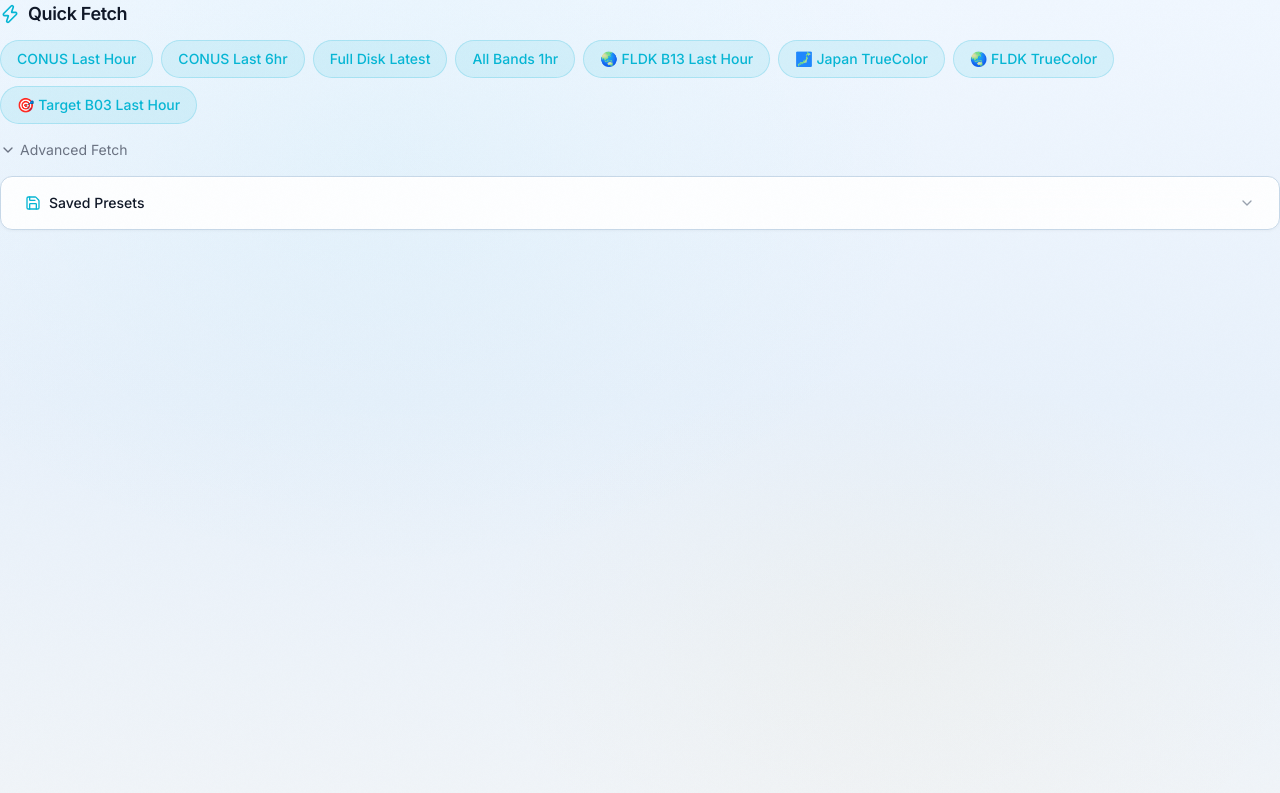
FetchFlowComplete › step 1: sector selection shows available sectors
Step 1. Click the button with test id "advanced-fetch-toggle" → coordinates (64, 150), box x1=0 y1=140 x2=128 y2=160
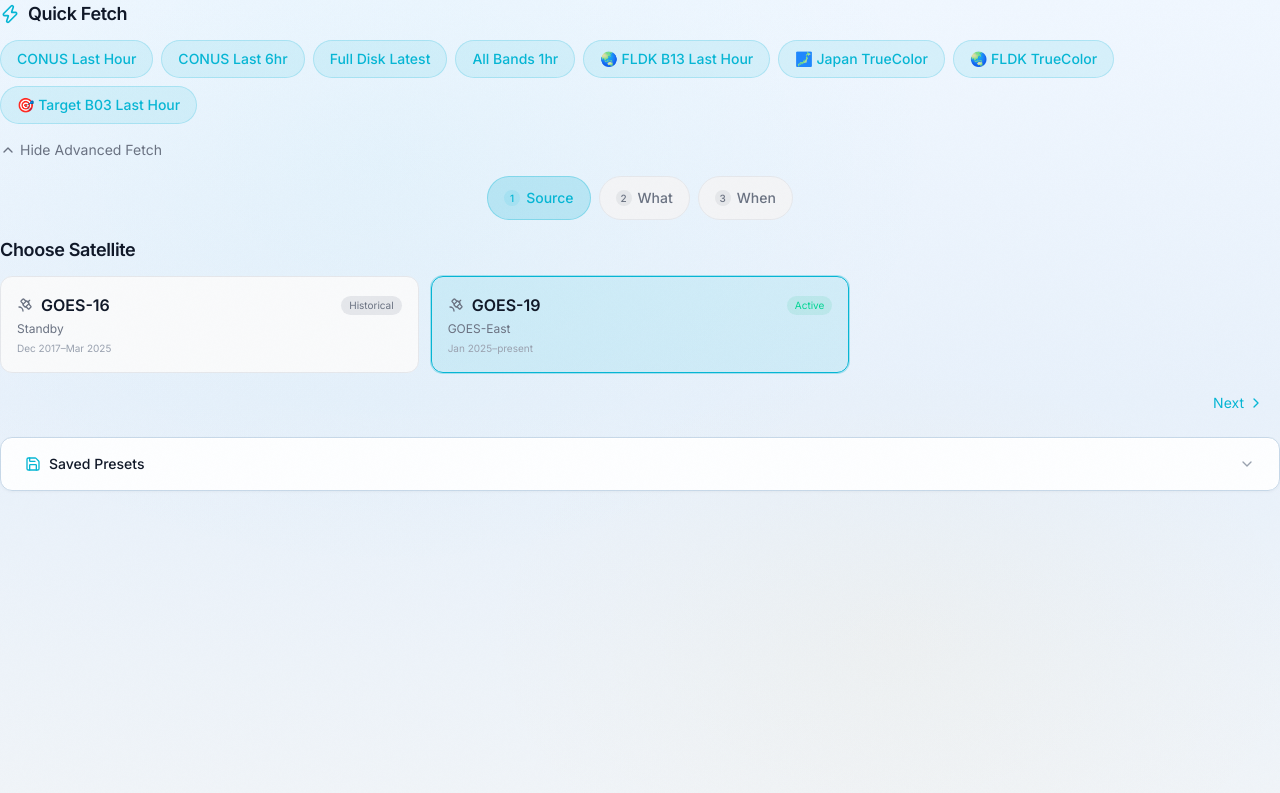
Now the heading "Choose Satellite" is shown, box x1=0 y1=239 x2=135 y2=260
Step 2. Click the button "Next" → coordinates (1239, 403), box x1=1197 y1=385 x2=1279 y2=421
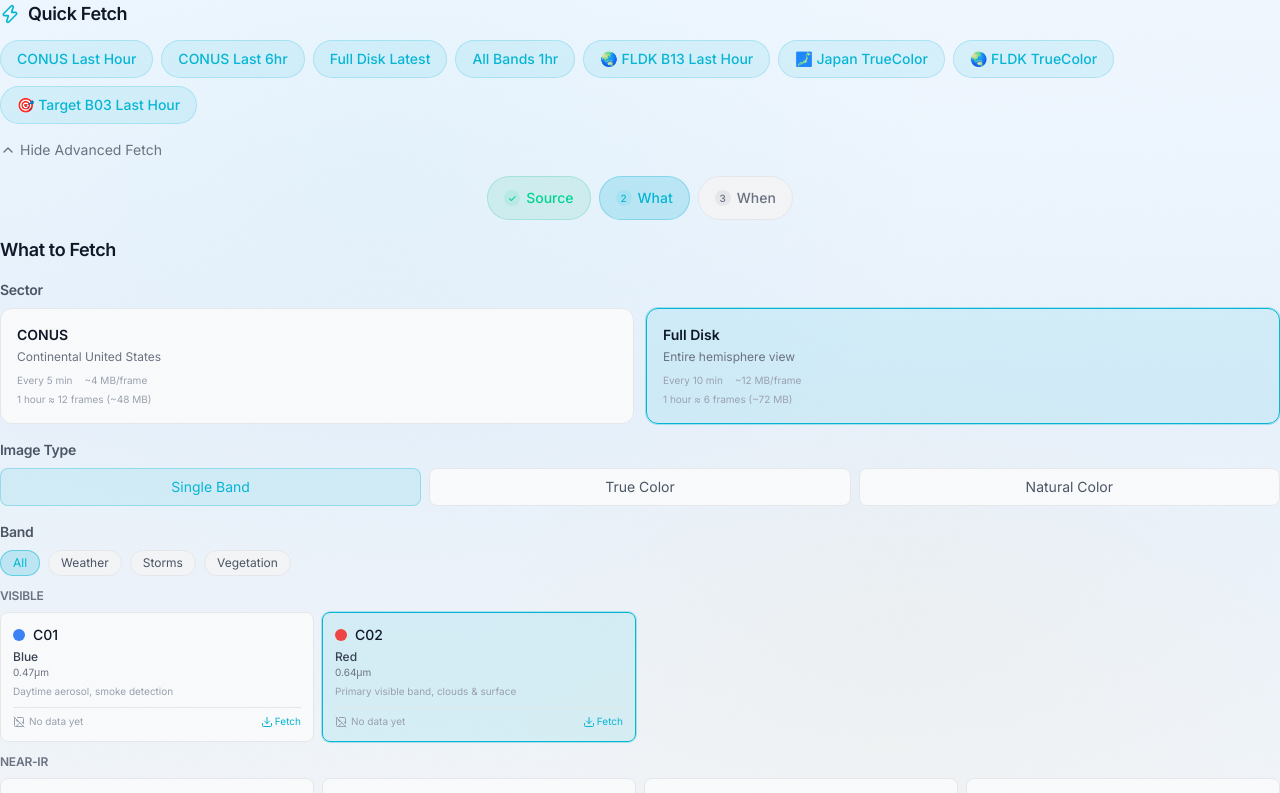
Now the heading "What to Fetch" is shown, box x1=0 y1=239 x2=116 y2=260
Now the heading "Sector" is shown, box x1=0 y1=281 x2=43 y2=298
